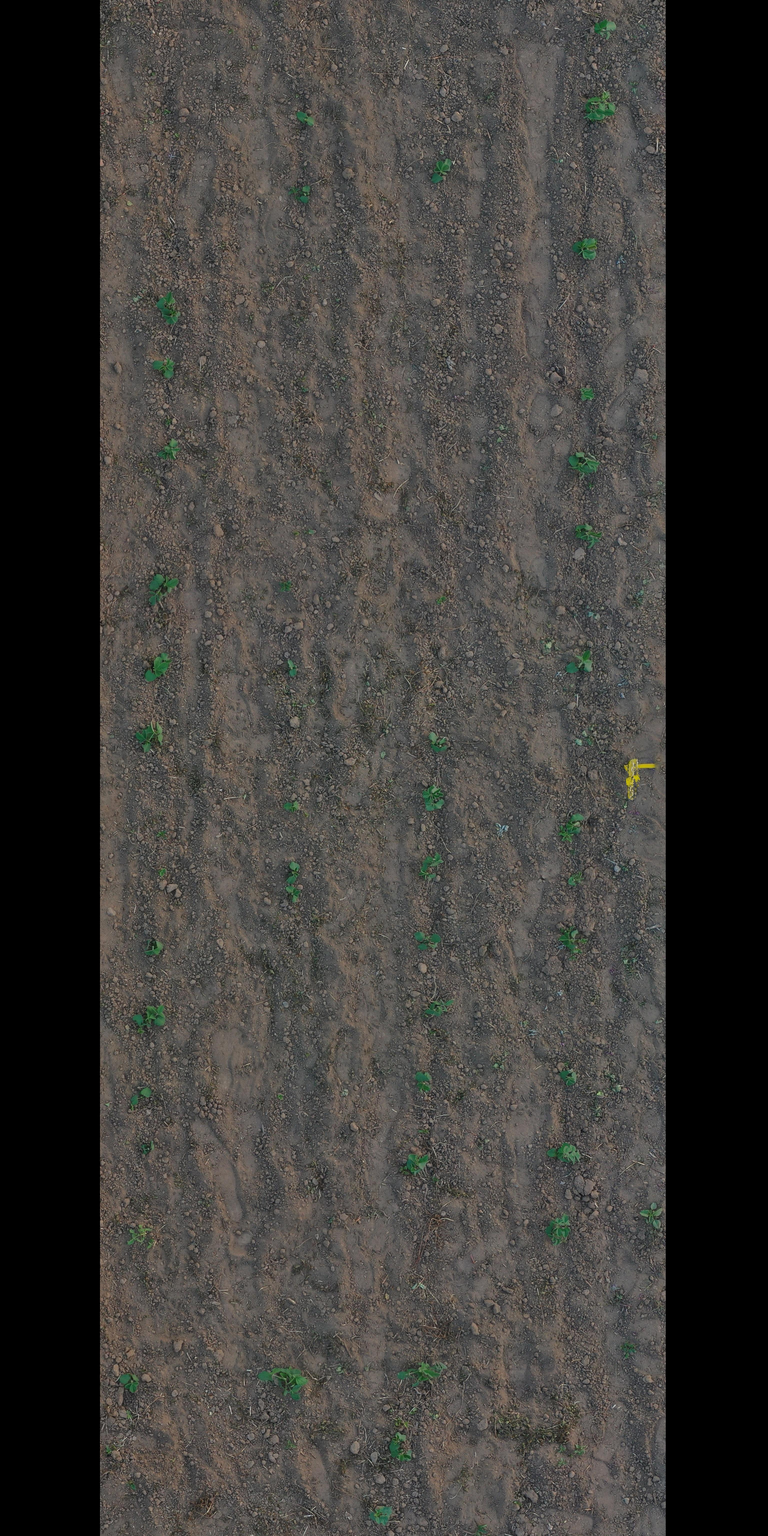s: (258, 1366, 303, 1401), (397, 1361, 440, 1387), (148, 573, 178, 606), (583, 96, 615, 124), (566, 649, 593, 674), (571, 236, 598, 261), (144, 656, 168, 682), (580, 522, 602, 549), (430, 158, 452, 184), (575, 451, 601, 473), (568, 455, 594, 476), (558, 1142, 581, 1165), (152, 357, 176, 379), (127, 1224, 152, 1245), (594, 19, 616, 41), (421, 784, 444, 805), (284, 1367, 308, 1386), (146, 721, 164, 746), (130, 1086, 152, 1106), (549, 1218, 571, 1238), (598, 91, 617, 114), (132, 1007, 157, 1024), (565, 813, 585, 834), (558, 929, 578, 950), (136, 728, 152, 753), (545, 1225, 564, 1246), (119, 1374, 140, 1393), (164, 437, 181, 460), (156, 291, 176, 310), (147, 1004, 166, 1024), (407, 1153, 429, 1170), (414, 931, 442, 944), (546, 1148, 570, 1163), (389, 1432, 407, 1452), (160, 308, 181, 325), (143, 939, 164, 956), (158, 442, 177, 460), (418, 862, 436, 881), (422, 852, 444, 867), (287, 861, 301, 884), (390, 1448, 412, 1462), (424, 798, 445, 812), (285, 885, 301, 903), (296, 111, 315, 126), (415, 1072, 430, 1091), (406, 1158, 422, 1175), (560, 1070, 577, 1086), (428, 731, 440, 753), (568, 871, 585, 886), (299, 185, 311, 204), (160, 652, 173, 669), (141, 1140, 155, 1155), (580, 386, 593, 402), (562, 1213, 570, 1238), (284, 800, 299, 813), (429, 1362, 448, 1372), (287, 659, 297, 677), (437, 736, 448, 752), (574, 524, 586, 538), (417, 942, 438, 950), (424, 1072, 432, 1092), (582, 388, 594, 401), (155, 590, 168, 600), (561, 925, 575, 934), (436, 596, 446, 606), (147, 1238, 155, 1249), (157, 868, 166, 877), (277, 1094, 284, 1100)
